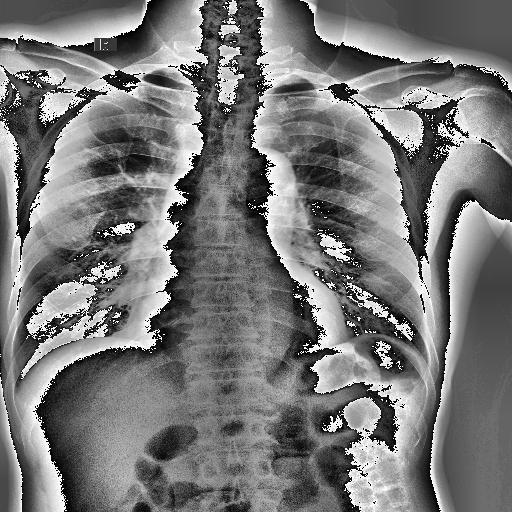0- Aortic enlargement: (157, 146, 294, 273), (237, 148, 297, 218), (240, 144, 296, 196)
13- Pulmonary fibrosis: (116, 166, 156, 216)
3- Cardiomegaly: (131, 307, 353, 356), (134, 313, 348, 347)
